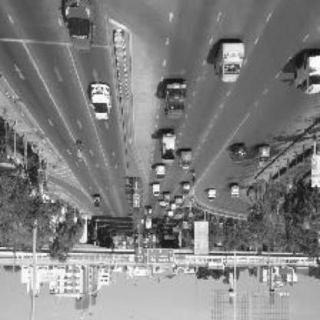other: (57, 3, 97, 59), (83, 87, 121, 123)
